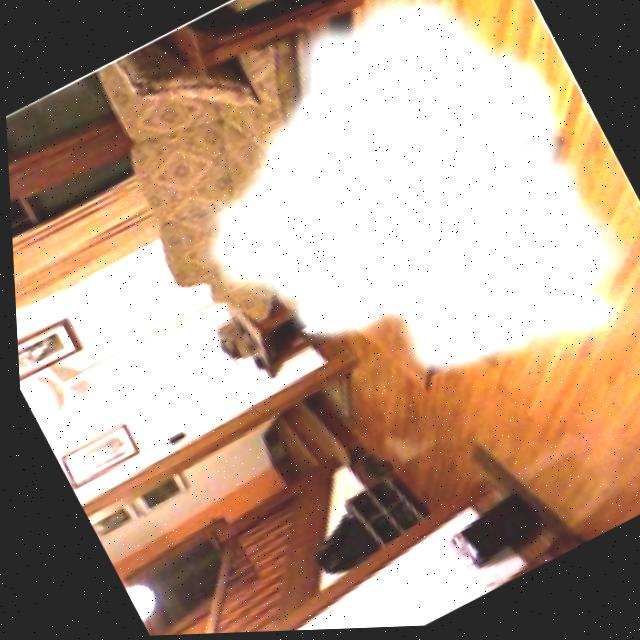Smoke: (116, 0, 640, 479)
